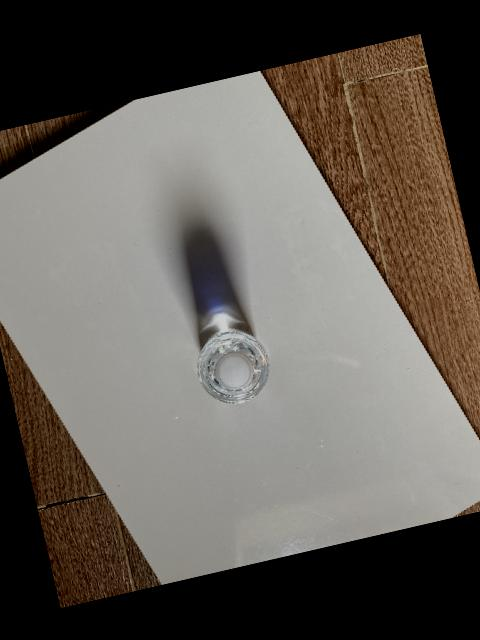aquafina: (199, 328, 272, 403)
